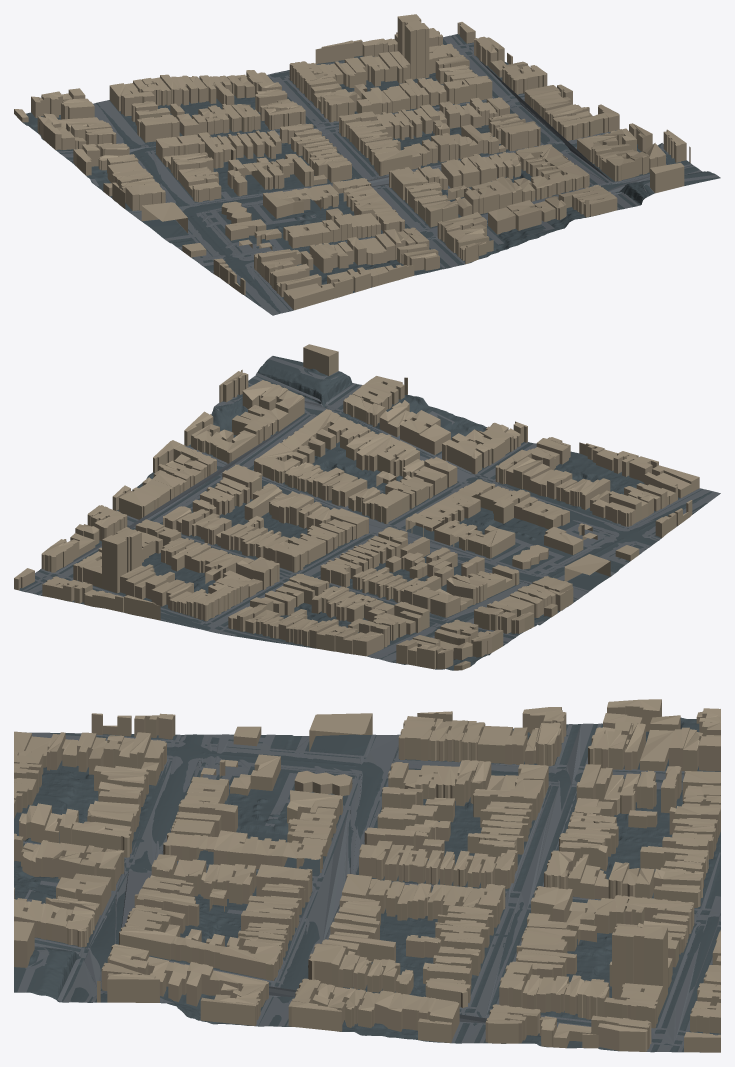
File: epsg26910-1431-10887.lod0.glb
The picture shows the model from 3 angles, top to bottom: view 1: azimuth 30°, elevation 25°; view 2: azimuth 150°, elevation 25°; view 3: azimuth 270°, elevation 25°; orthographic projection. The views are drawn at different scales.
Visible parts, largest first — view 1: epsg26910-1431-10887-lod0; view 2: epsg26910-1431-10887-lod0; view 3: epsg26910-1431-10887-lod0.
Part boxes in pixels (x1=…): epsg26910-1431-10887-lod0: x1=14, y1=14, x2=720, y2=315; epsg26910-1431-10887-lod0: x1=14, y1=344, x2=720, y2=670; epsg26910-1431-10887-lod0: x1=14, y1=699, x2=720, y2=1052.
Bounding box in the file's own units: 384 × 53.03 × 384.
